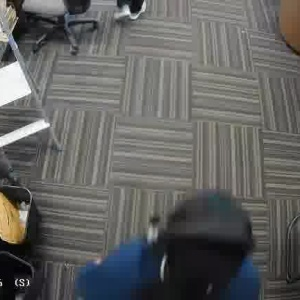person: (83, 194, 261, 296)
